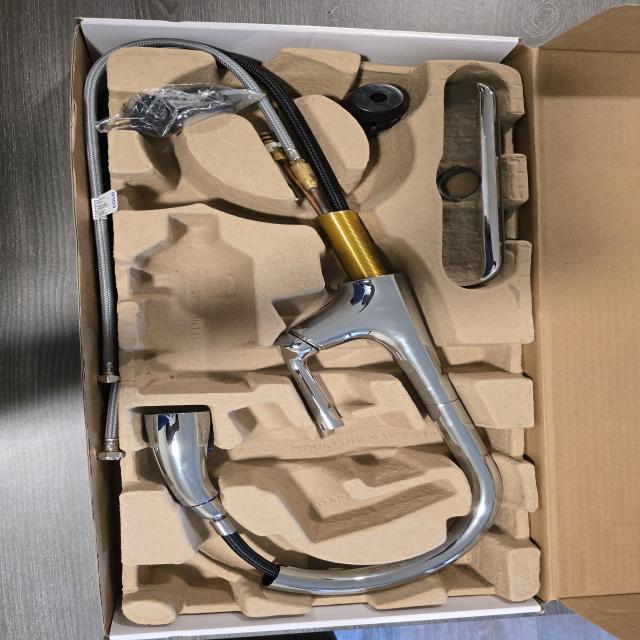1: (144, 49, 503, 597)
2m: (230, 402, 455, 542)
3m: (133, 215, 254, 394)
4: (435, 82, 507, 289)
5: (338, 83, 409, 131)
6m: (123, 148, 248, 217)
7: (96, 80, 265, 139)
